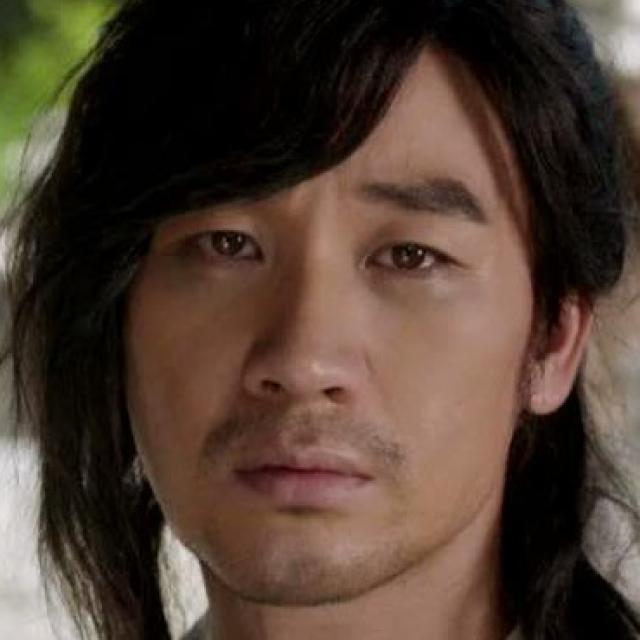Depress: (125, 22, 540, 607)
